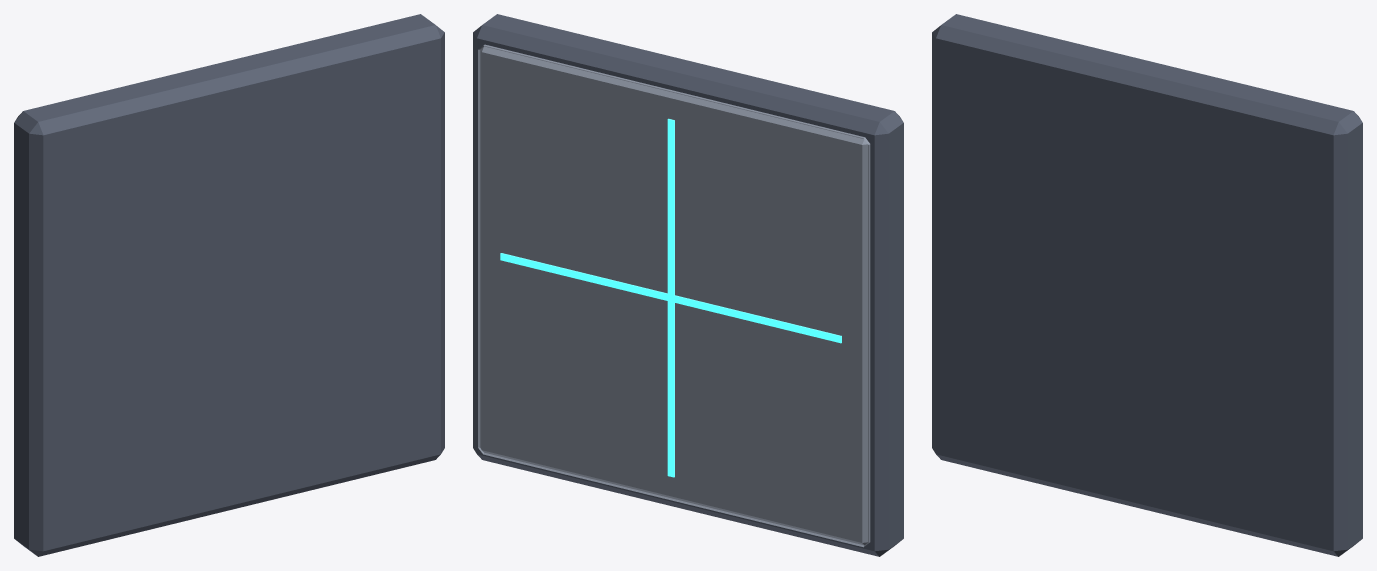
Rendered from platform_curve_right.glb.
3 views of the same model, side by side, from view 1: azimuth 30°, elevation 25°; view 2: azimuth 150°, elevation 25°; view 3: azimuth 330°, elevation 25° (orthographic).
Parts seen in each view (by area): view 1: platform_curve_right; view 2: platform_curve_right; view 3: platform_curve_right.
Boxes of the visible parts, bbox=[...] form: platform_curve_right: bbox=[14, 14, 444, 556]; platform_curve_right: bbox=[473, 14, 903, 556]; platform_curve_right: bbox=[932, 14, 1362, 556].
Bounding box in the file's own units: 3.2 × 3.2 × 0.406.
